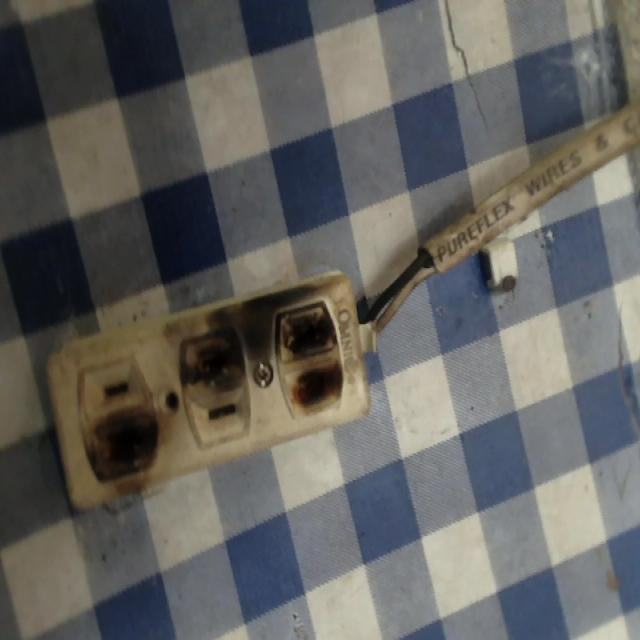-: (273, 297, 347, 420), (80, 395, 165, 492), (166, 316, 254, 391)
